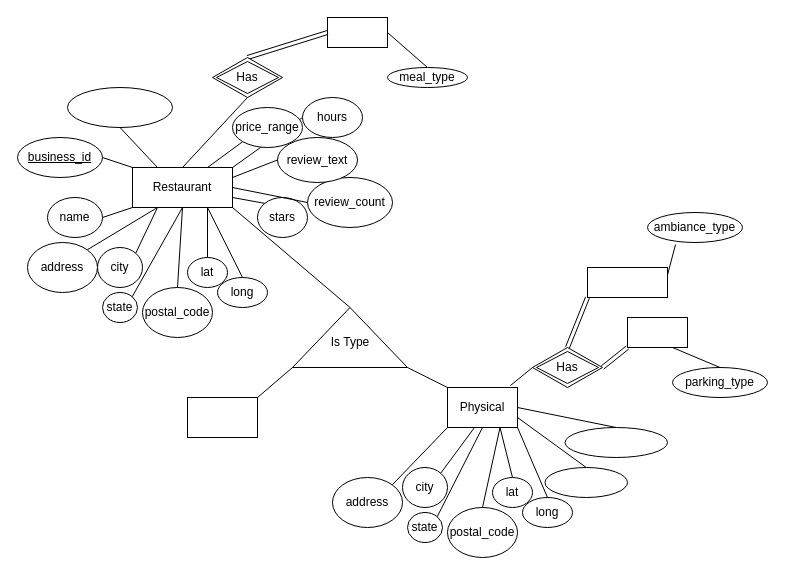
The diagram is 785 pixels wide and 575 high, and some of its shapes have lost their labels. The box of each missing label's shape, as (x1, y1, x2, y2) in pixels:
Ambiance: (586, 266, 668, 298)
Food Truck: (186, 396, 258, 438)
has_takeout: (544, 466, 628, 498)
Meals: (326, 16, 388, 48)
offers_delivery: (66, 86, 172, 128)
outdoor_seating: (564, 426, 668, 458)
Parking: (626, 316, 688, 348)
